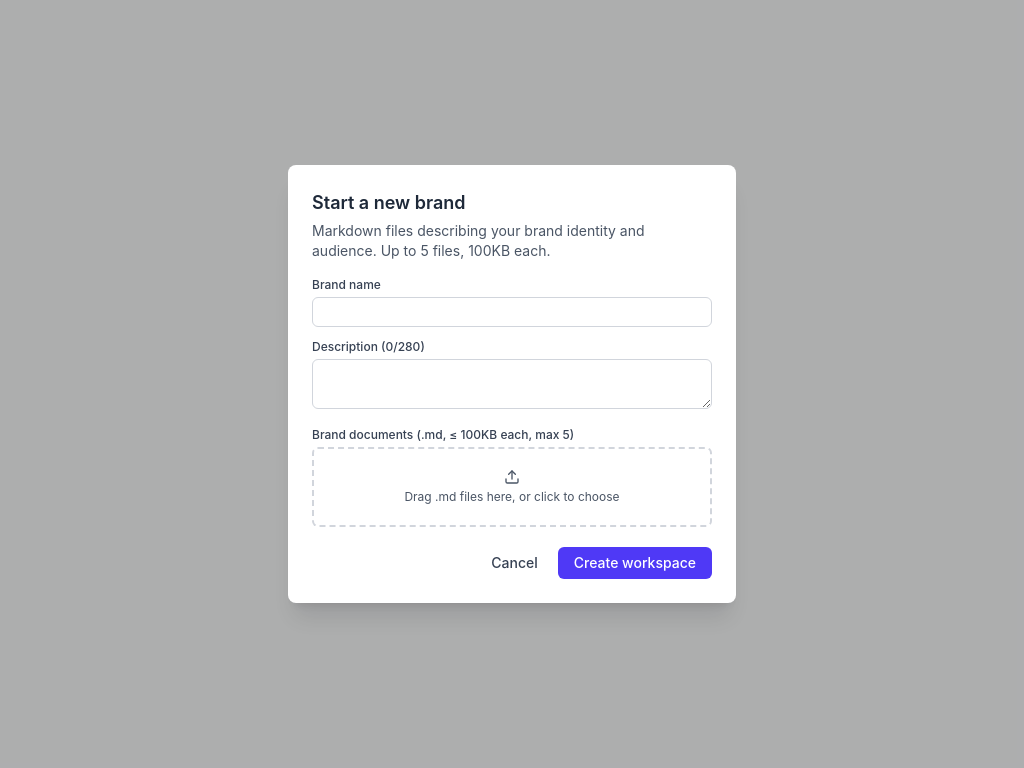
Test case: BrandUploadModal › blank submit shows inline errors for name + description + files
Click the button "Create workspace". click: (635, 563)
box: [558,547,712,579]
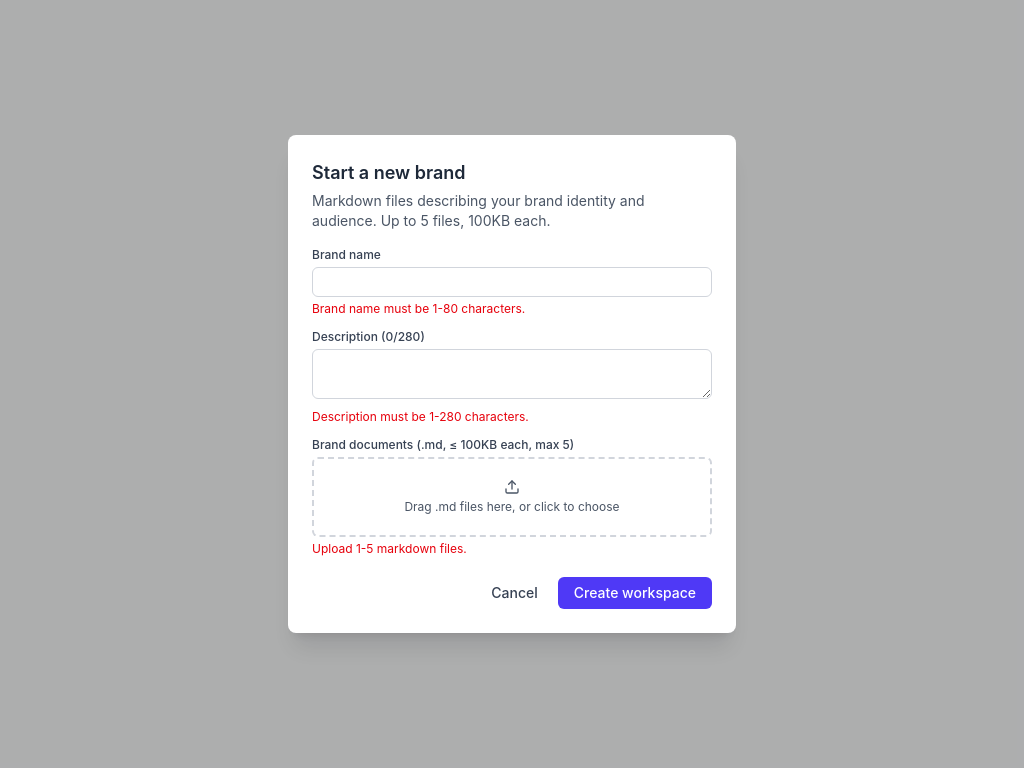
Now the text "Brand name must be 1-80 characters." is shown, box [312,301,525,316]
Now the text "Description must be 1-280 characters." is shown, box [312,409,529,424]
Now the text "Upload 1-5 markdown files." is shown, box [312,541,467,556]
